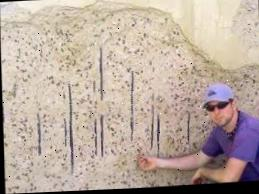exposed_rebar: (68, 83, 73, 174), (129, 72, 133, 140), (98, 47, 103, 100), (36, 113, 41, 156), (99, 115, 103, 157), (155, 115, 159, 157), (93, 118, 97, 155), (150, 105, 153, 148), (186, 111, 189, 143), (63, 118, 66, 146)
spalling: (0, 1, 259, 194)
